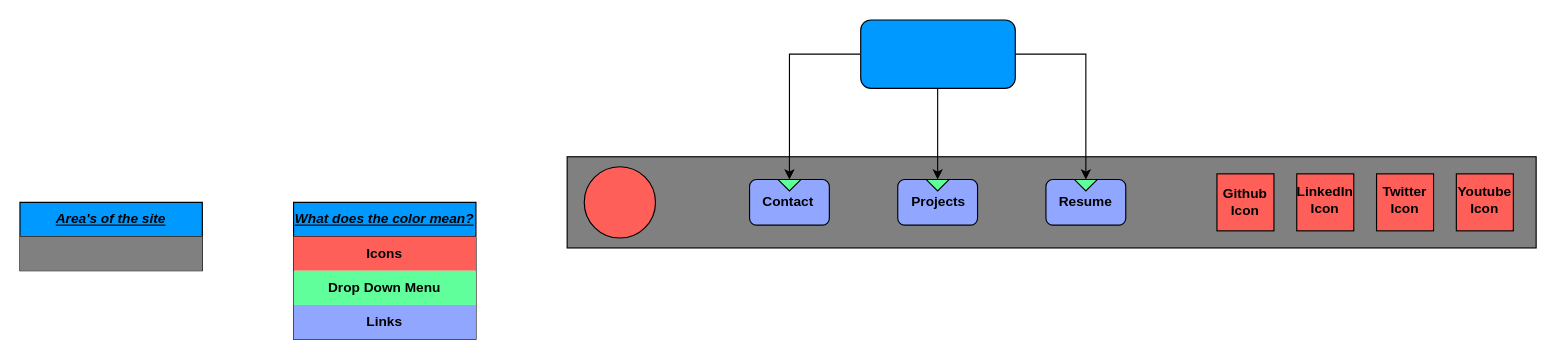
This 1556x359 diagram has some shape labels left out. Each missing label, with the centre of its shape:
The arrows will have a hover effect revealing the links only once.: pixel 937 53
The Navbar: pixel 110 253
Website Icon: pixel 619 202
